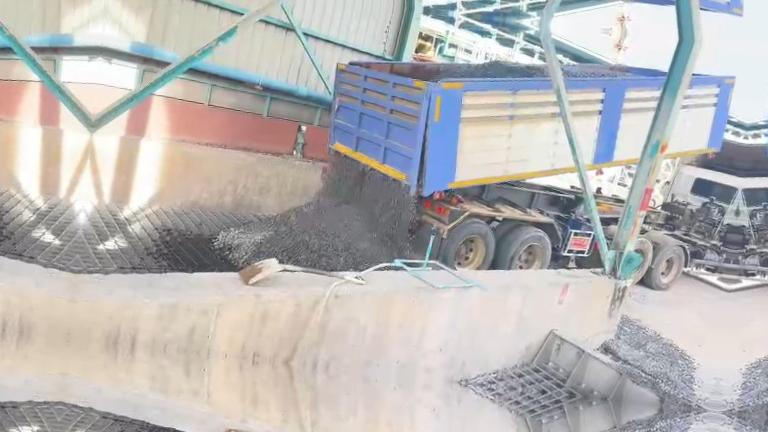gravel: (214, 155, 416, 270), (599, 316, 703, 408), (395, 60, 549, 81), (561, 65, 633, 78)
